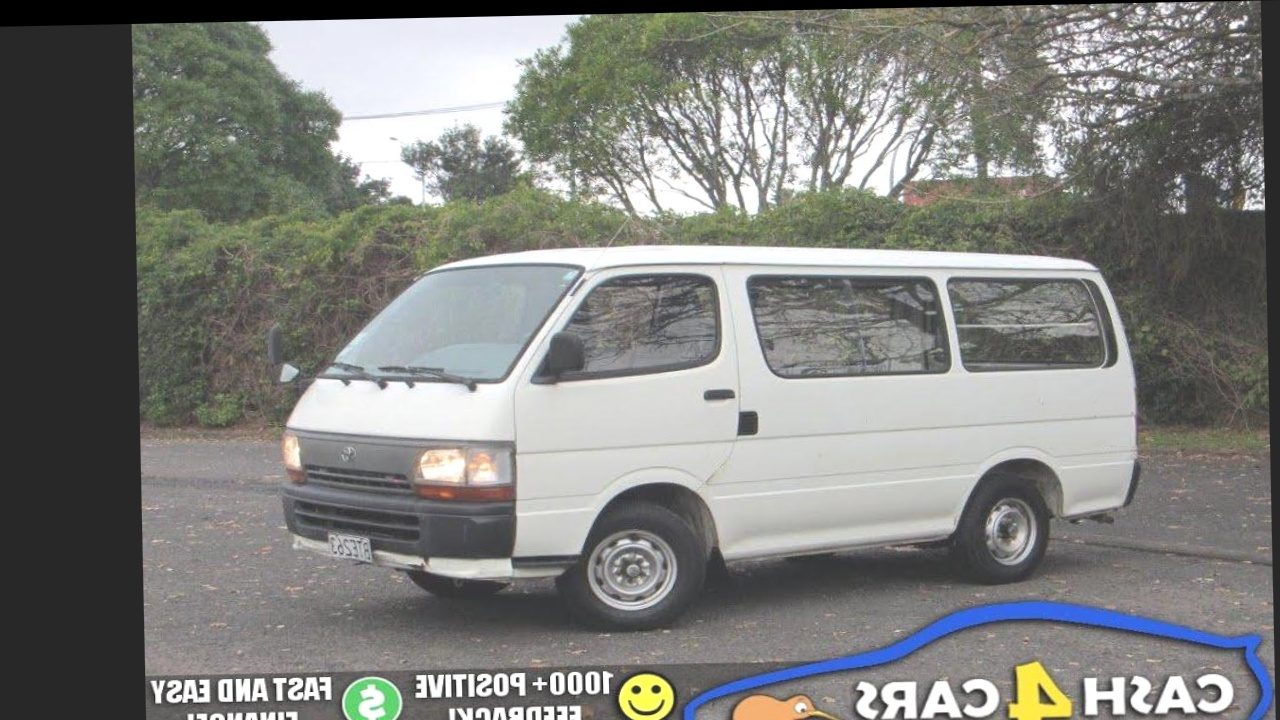van: (273, 236, 1145, 604)
